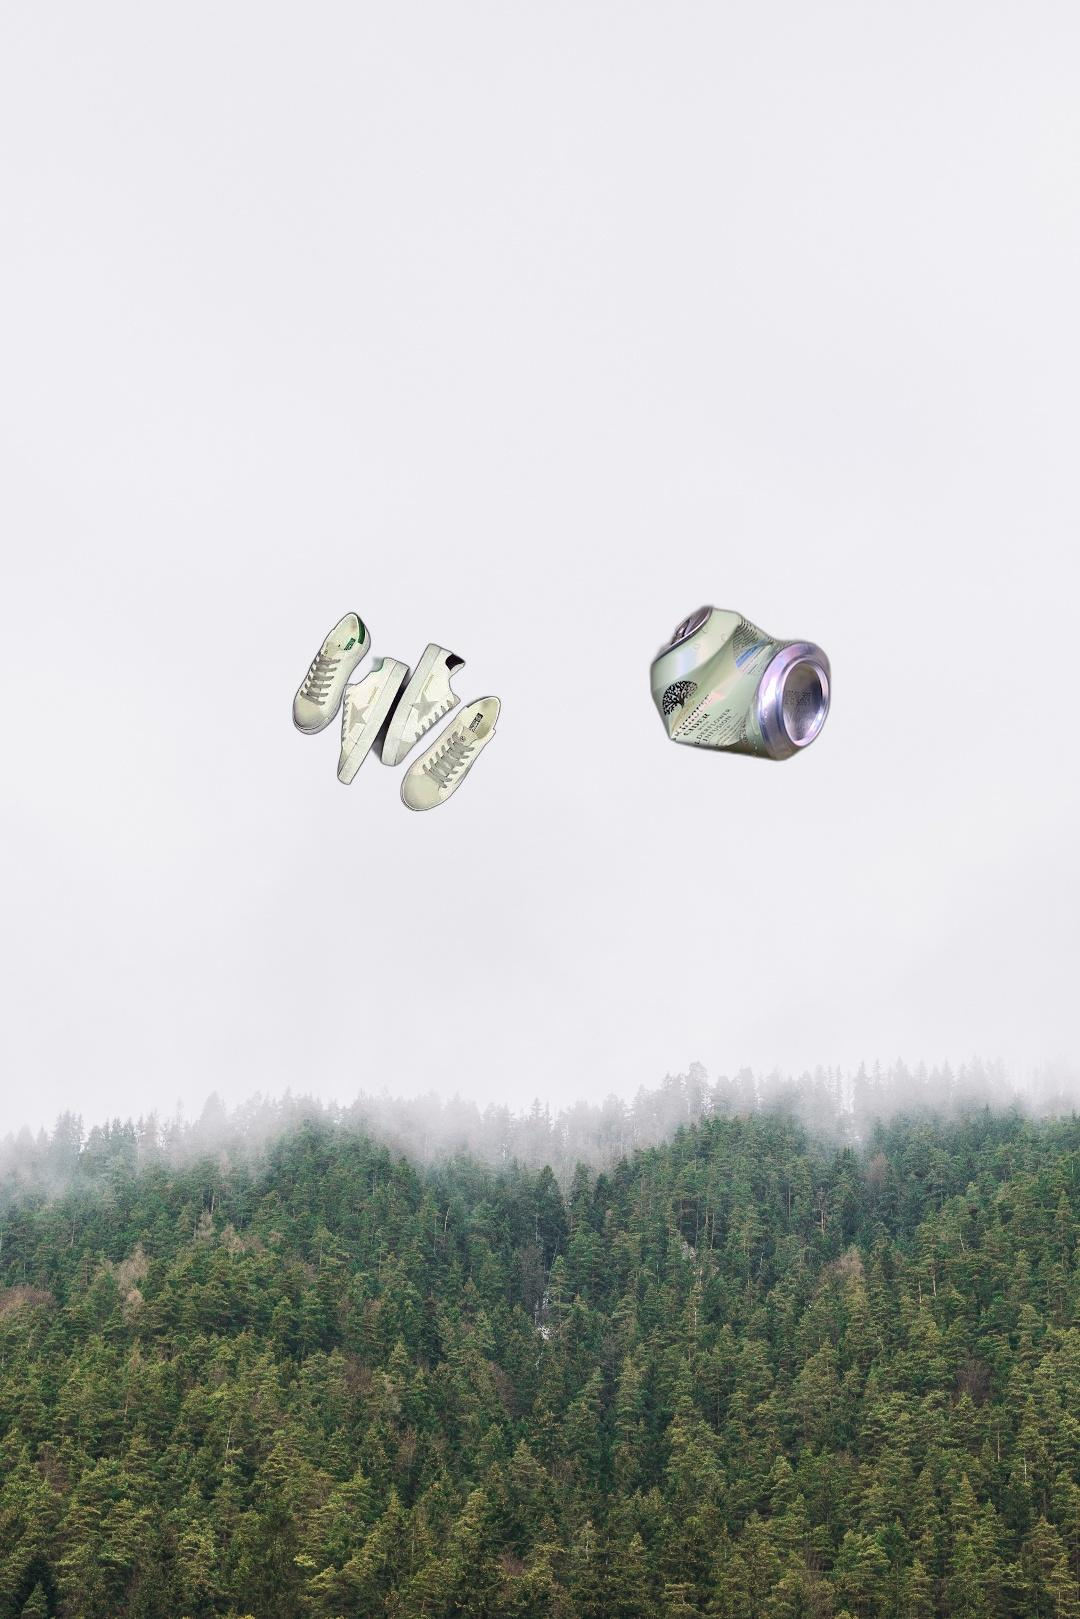metal-cans: (646, 600, 835, 767)
shoes: (290, 610, 503, 814)
